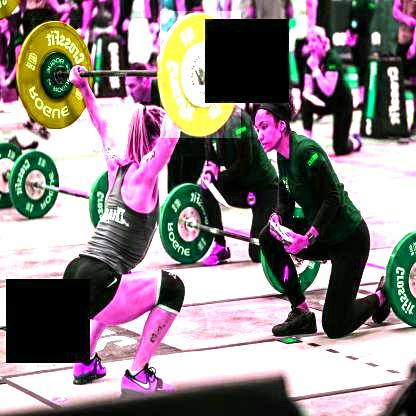barbell: (159, 12, 239, 138), (16, 20, 92, 131)
